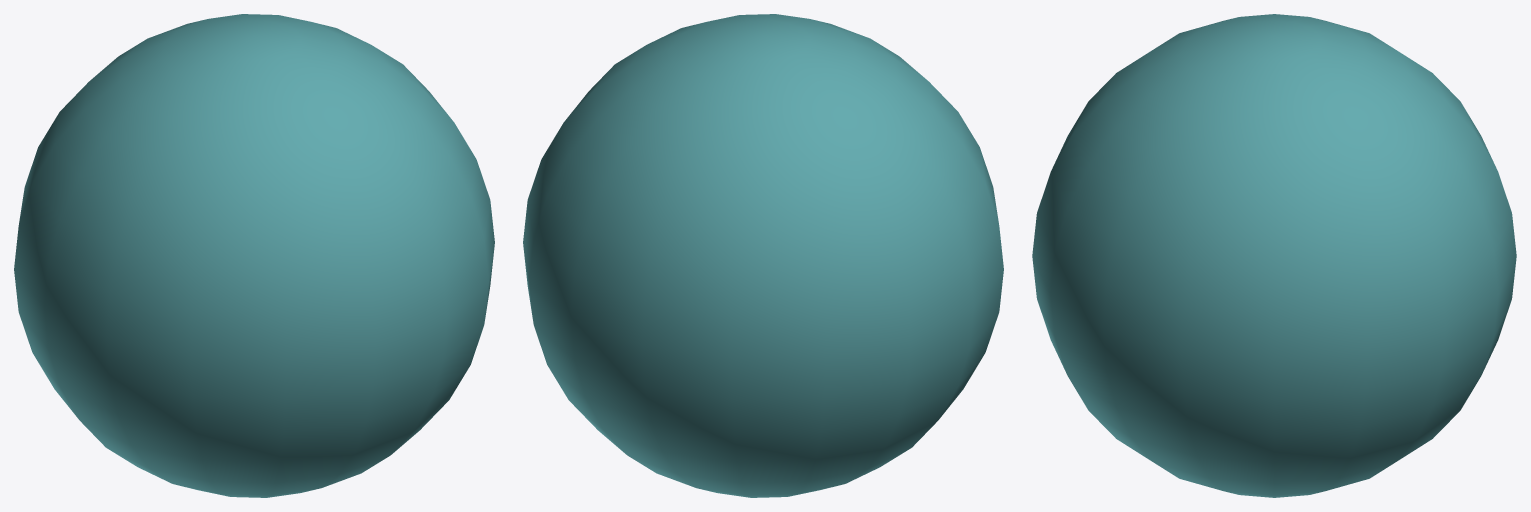
The model's file is MarbleFourFinned01_Ben.fbx.
The picture shows the model from 3 angles, left to right: view 1: azimuth 30°, elevation 25°; view 2: azimuth 150°, elevation 25°; view 3: azimuth 270°, elevation 25°; orthographic projection.
Parts seen in each view (by area): view 1: MarbleFourFinned; view 2: MarbleFourFinned; view 3: MarbleFourFinned.
Boxes of the visible parts, x1=… form: MarbleFourFinned: x1=14, y1=14, x2=494, y2=497; MarbleFourFinned: x1=523, y1=14, x2=1003, y2=497; MarbleFourFinned: x1=1032, y1=14, x2=1516, y2=497.
Size of the model in its own units: 4 by 4 by 4.
